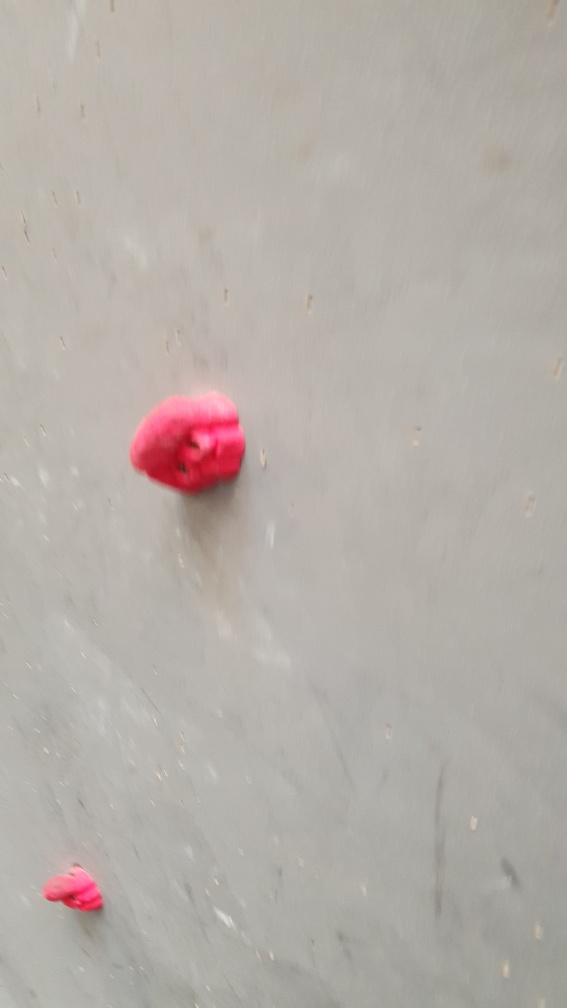Jug: (125, 389, 248, 498), (46, 865, 105, 916)
